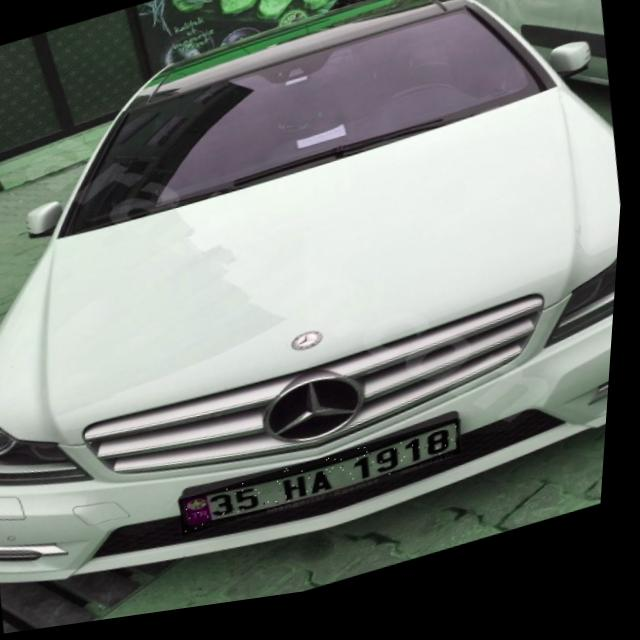license_plate: (185, 432, 470, 543)
